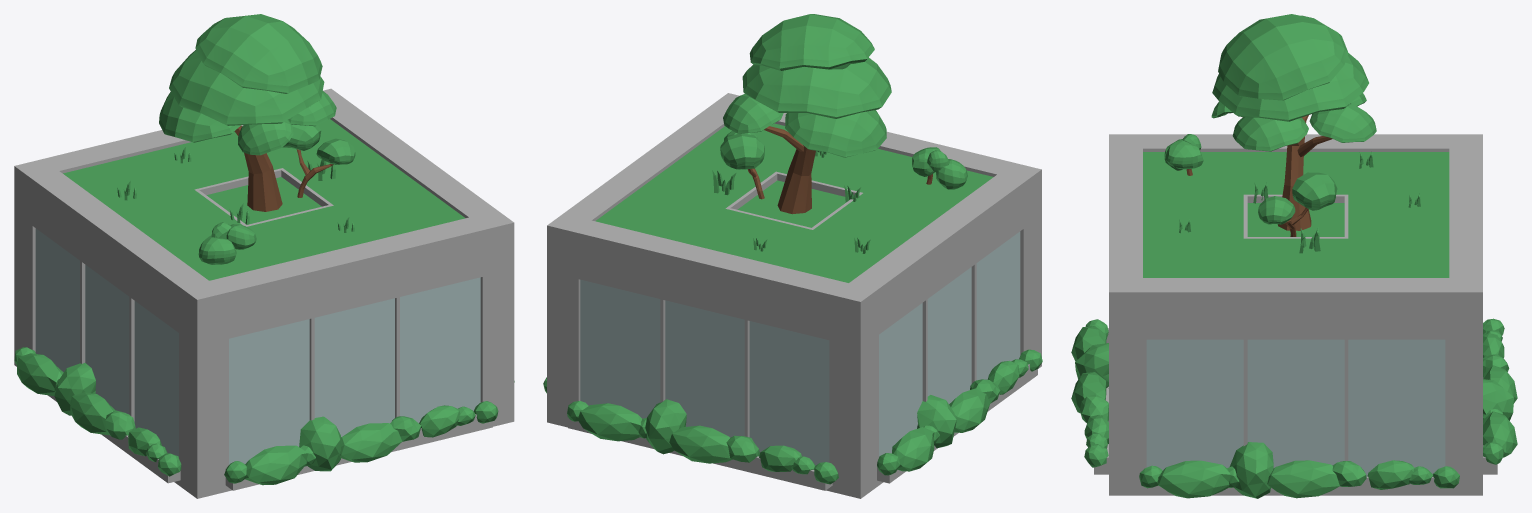
File: TopElement4.fbx
3 renders of one model, left to right at view 1: azimuth 30°, elevation 25°; view 2: azimuth 150°, elevation 25°; view 3: azimuth 270°, elevation 25°, orthographic. The views are drawn at different scales.
Parts seen in each view (by area): view 1: Icosphere.064; view 2: Icosphere.064; view 3: Icosphere.064.
Boxes of the visible parts, bbox=[...] form: Icosphere.064: bbox=[14, 14, 514, 498]; Icosphere.064: bbox=[543, 14, 1042, 498]; Icosphere.064: bbox=[1071, 14, 1517, 498].
Size of the model in its own units: 119 by 114 by 119.
